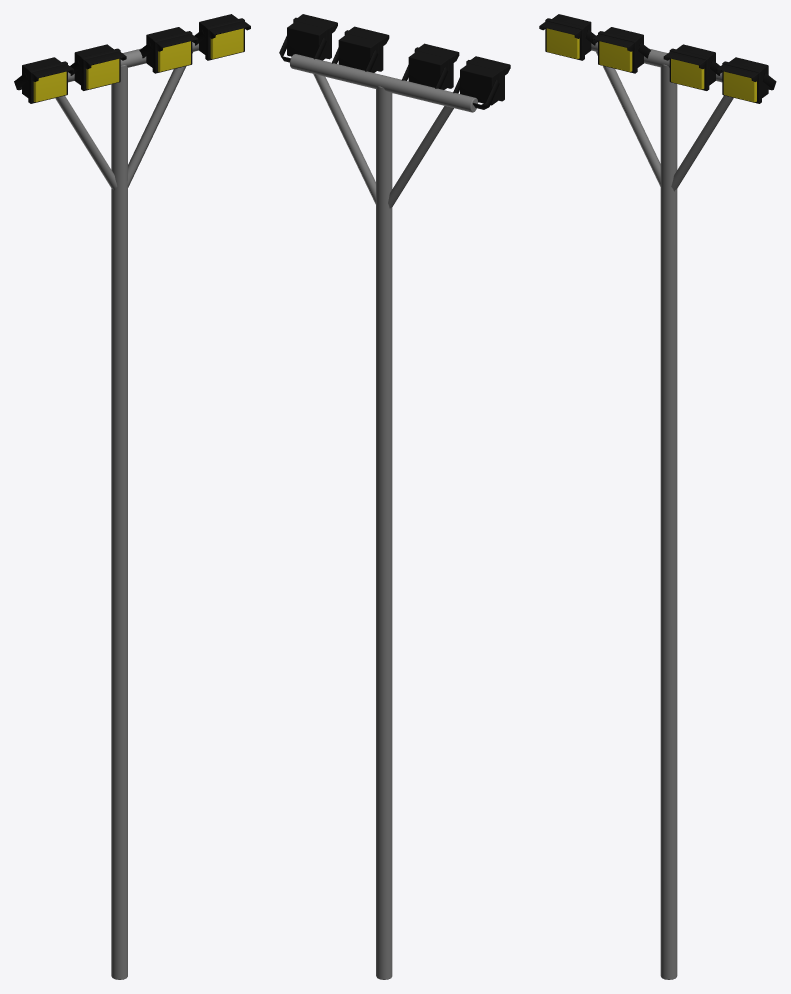
The model's file is SM_floodlights_02.fbx.
The picture shows the model from 3 angles, left to right: view 1: azimuth 30°, elevation 25°; view 2: azimuth 150°, elevation 25°; view 3: azimuth 330°, elevation 25°; orthographic projection. The views are drawn at different scales.
Visible parts, largest first — view 1: floodlights02; view 2: floodlights02; view 3: floodlights02.
Part boxes in pixels (<box>): floodlights02: <box>14,14,250,979</box>; floodlights02: <box>279,14,510,979</box>; floodlights02: <box>539,14,776,979</box>.
Bounding box in the file's own units: 80.3 × 337 × 18.1.
